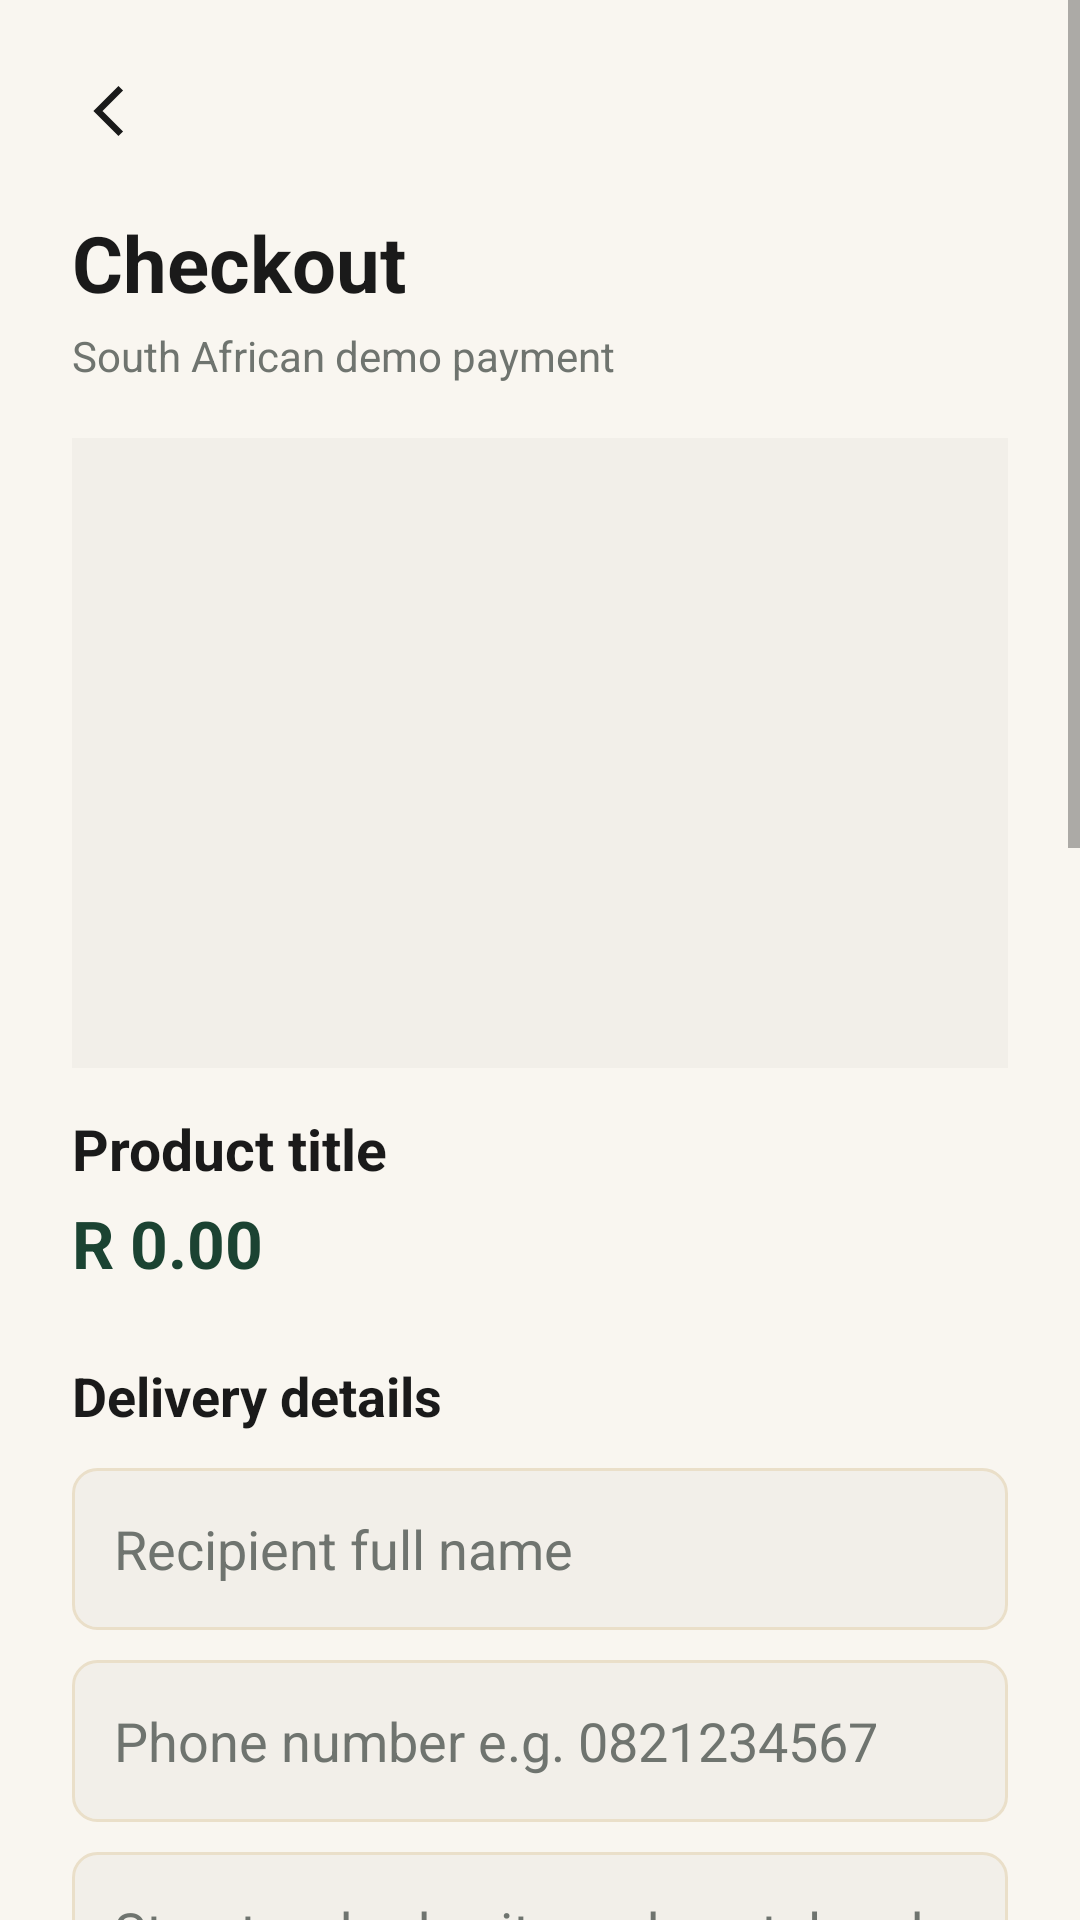

Icons on this 1080×1920 Android screen, each with the point to tap as point (x, y):
Back: point (108, 111)
